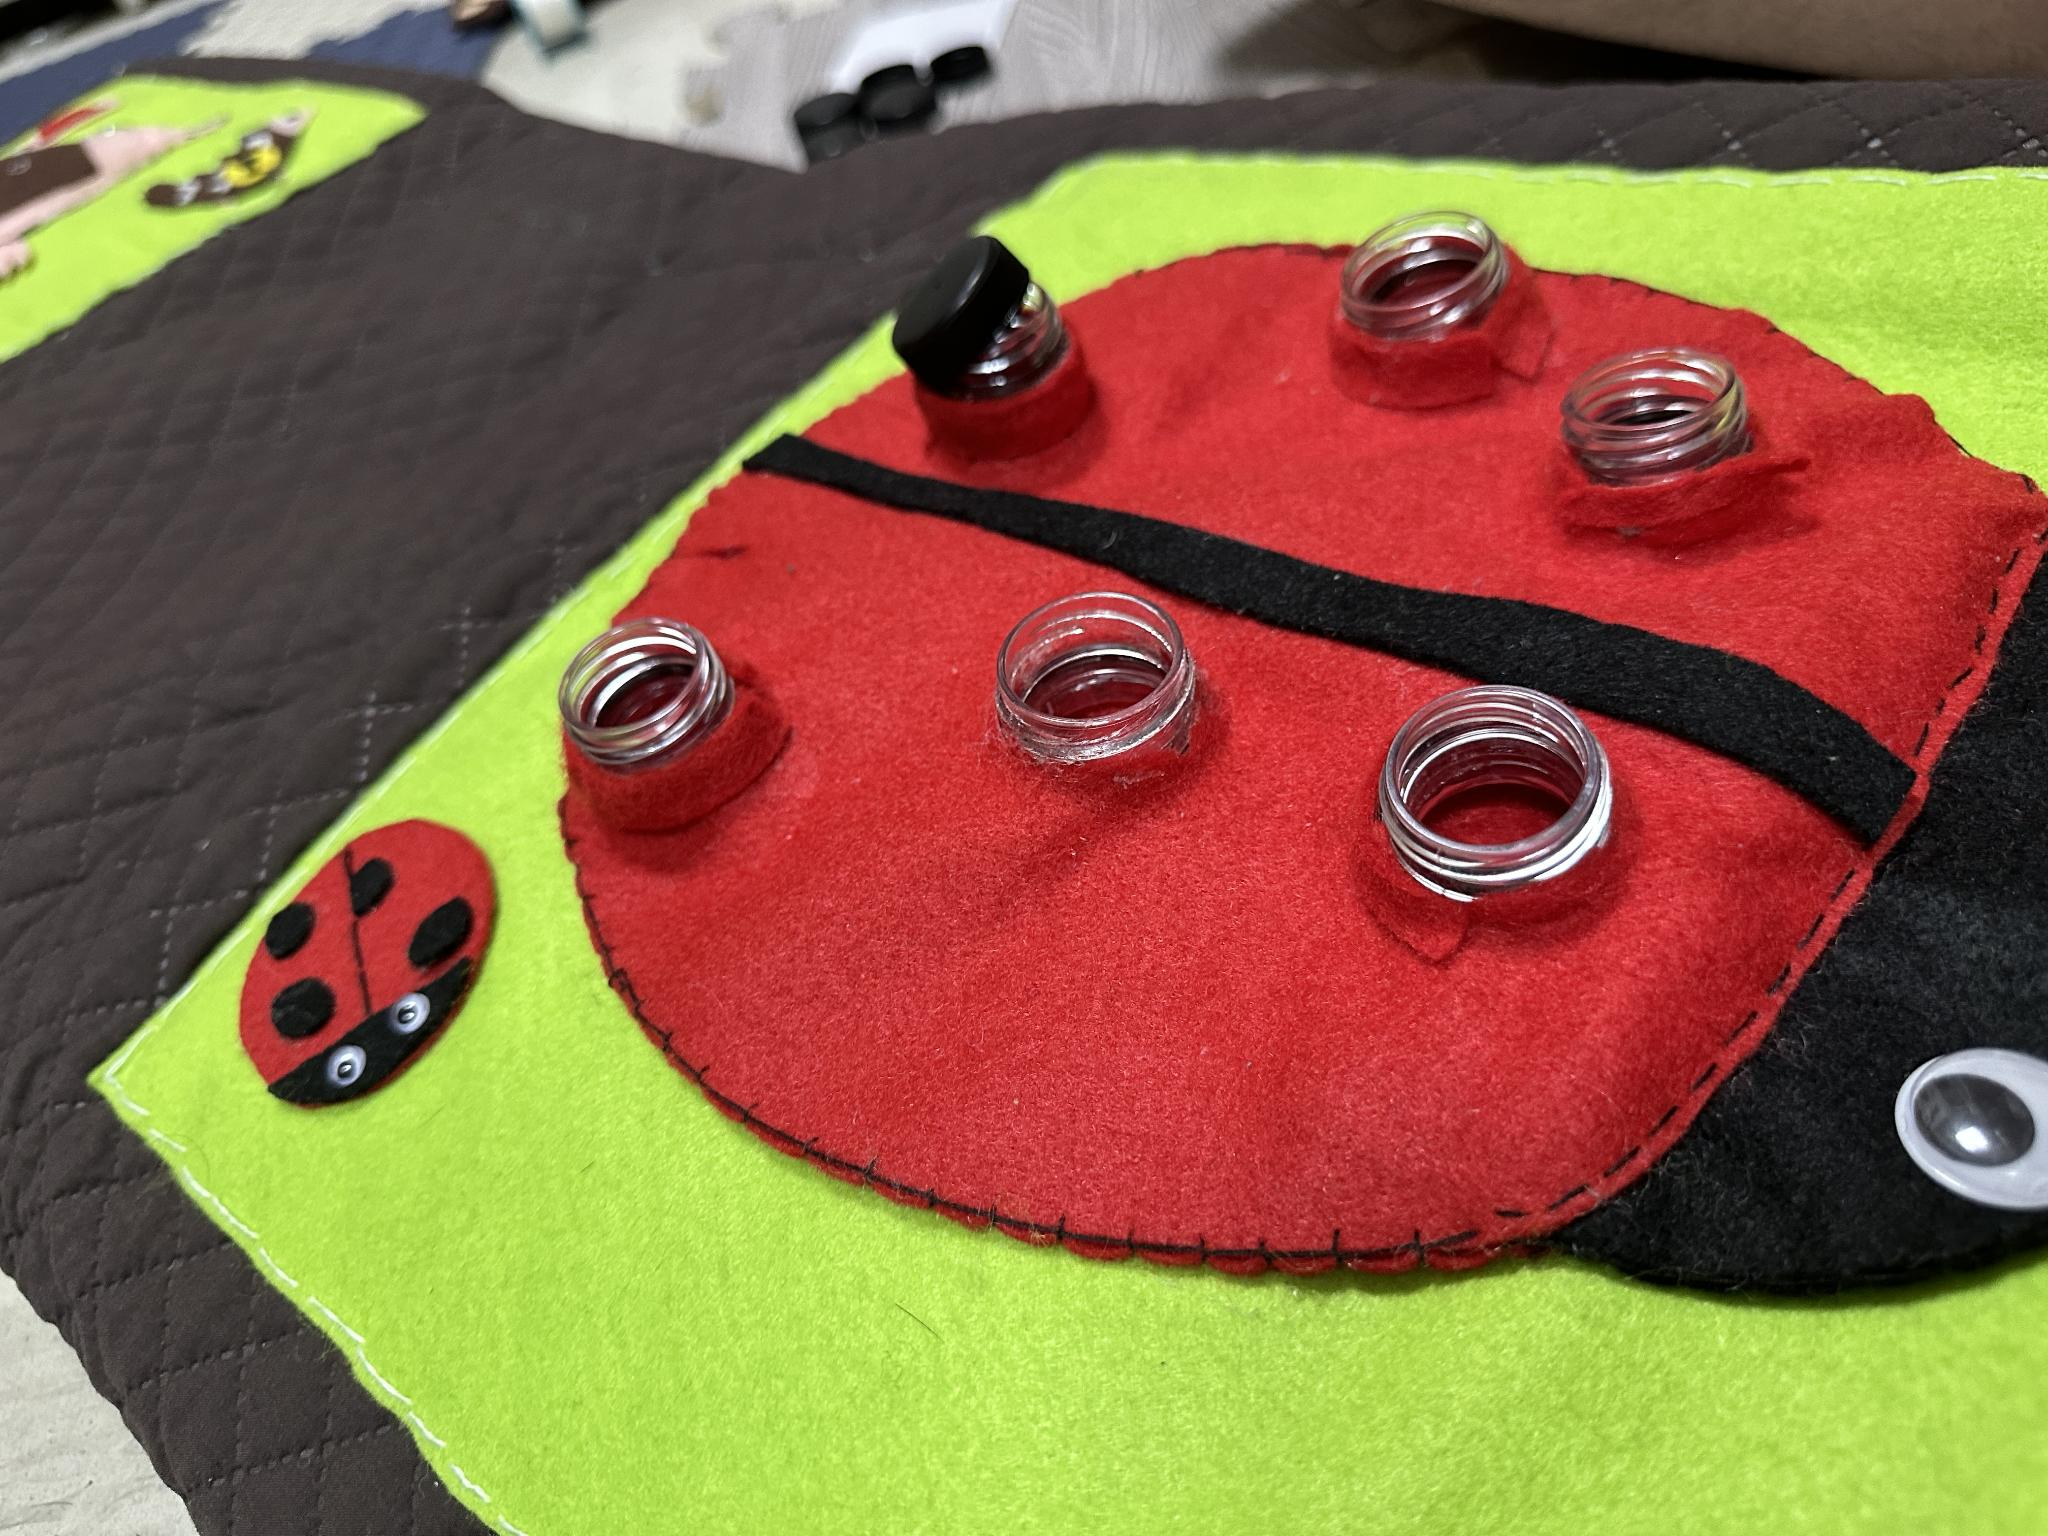cap_ng: (876, 224, 1105, 476)
